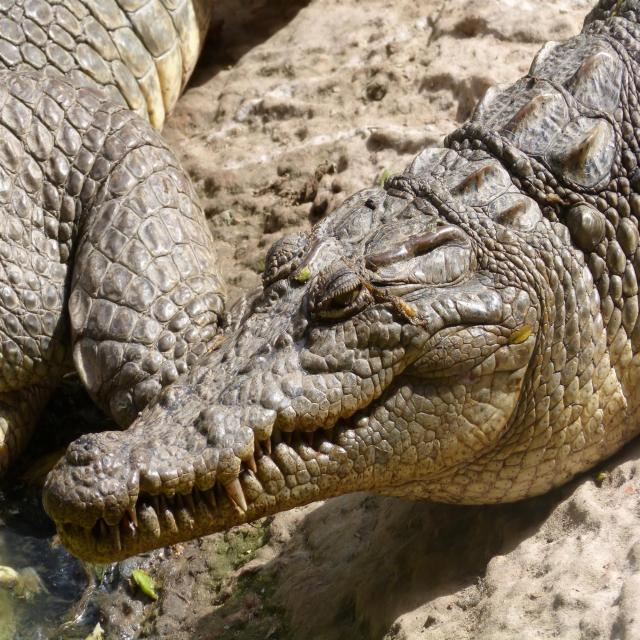crocodile: (0, 0, 640, 604)
